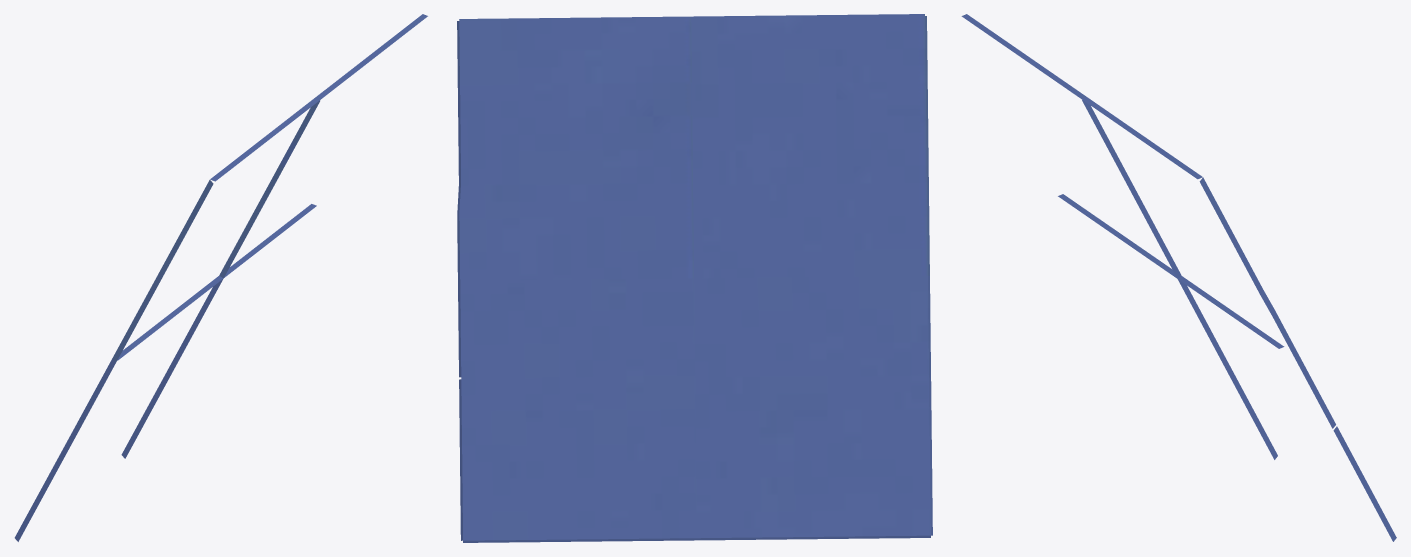
3 views of the same model, side by side, from view 1: azimuth 30°, elevation 25°; view 2: azimuth 150°, elevation 25°; view 3: azimuth 270°, elevation 25° (orthographic). The views are drawn at different scales.
Size of the model in its own units: 39456 by 35420 by 33800.
Materials: 1 (1 with a texture image).
